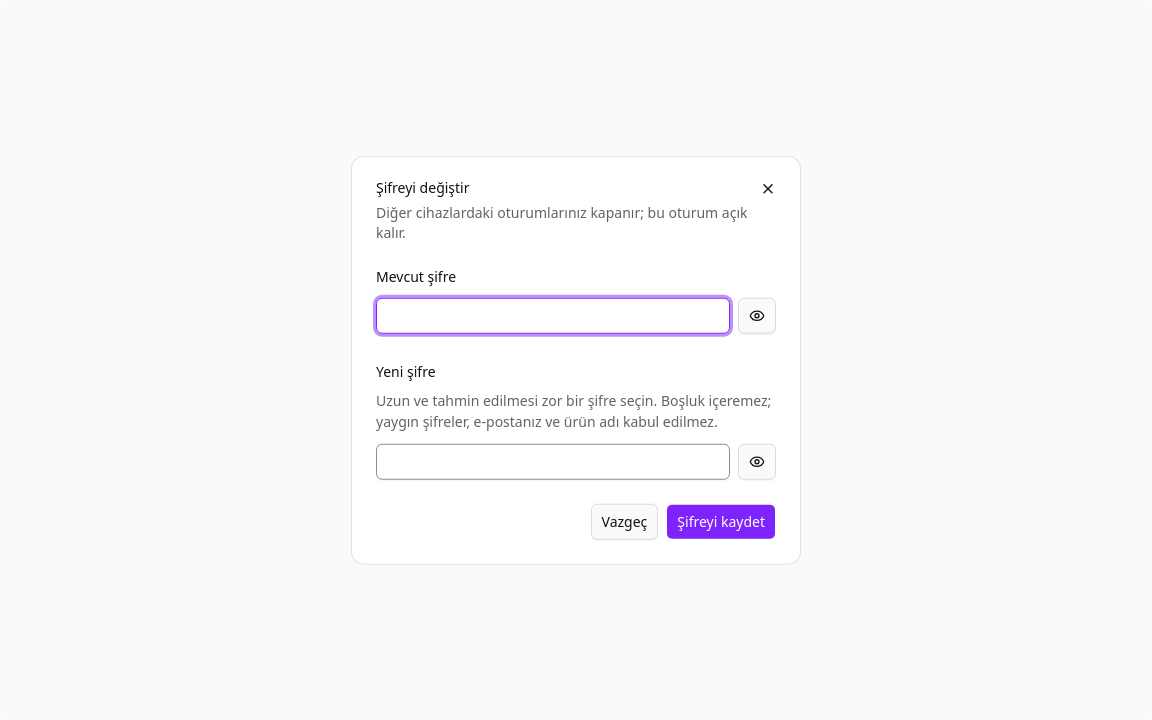
it: ChangePasswordDialog › shows a wrong current password under its field
Type "yanlış-şifre-yazıldı" into the password field labelled "Mevcut şifre".
click(553, 316); type("yanlış-şifre-yazıldı")  # box [376, 298, 730, 334]
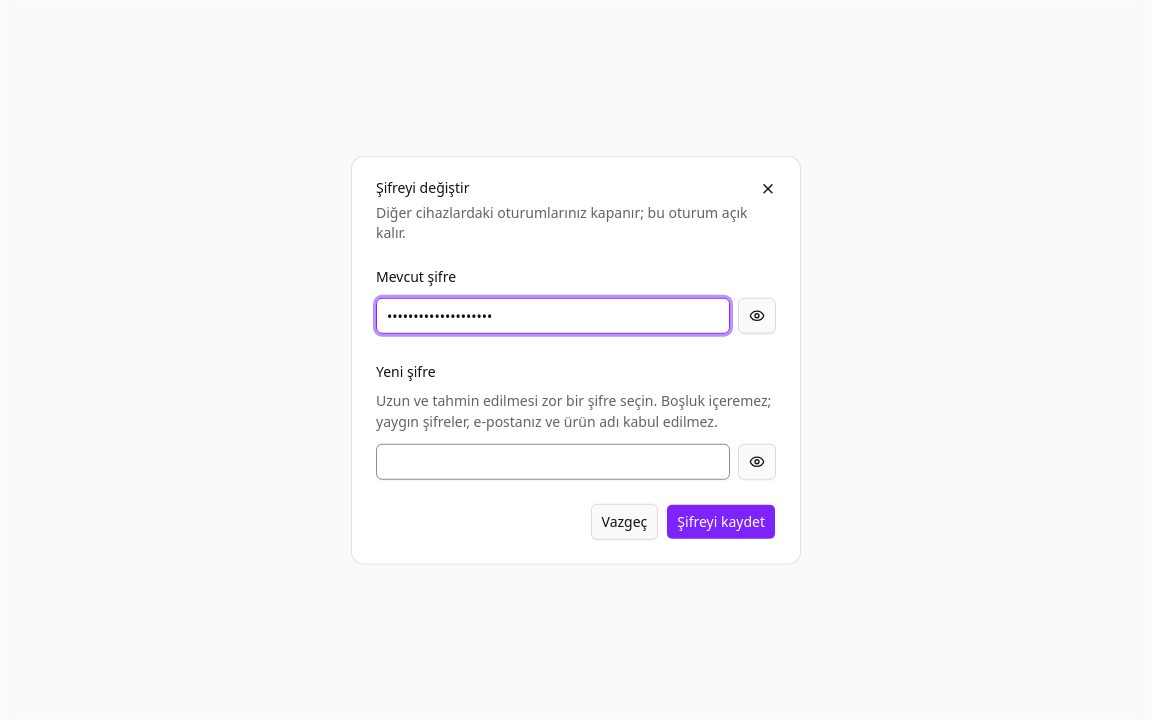
Type "mavi-kalem-uzun-yol" into the password field labelled "Yeni şifre".
click(553, 461); type("mavi-kalem-uzun-yol")  # box [376, 443, 730, 479]
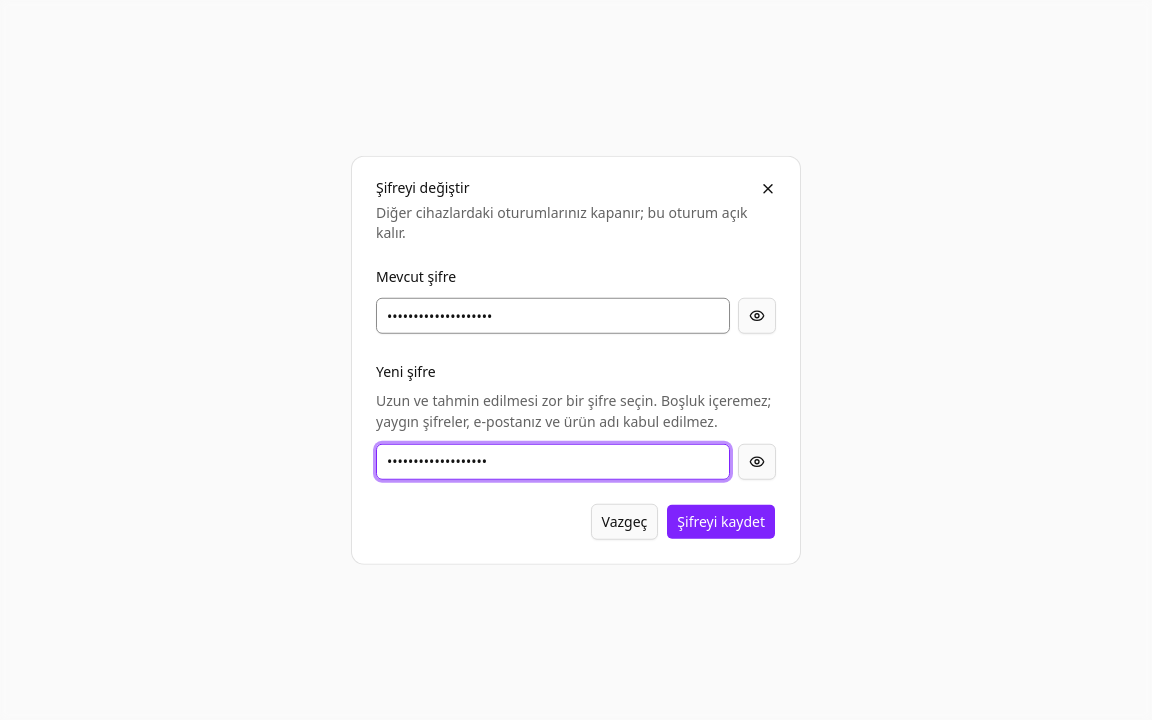
Click the button "Şifreyi kaydet".
click(721, 521)  # box [666, 503, 776, 539]
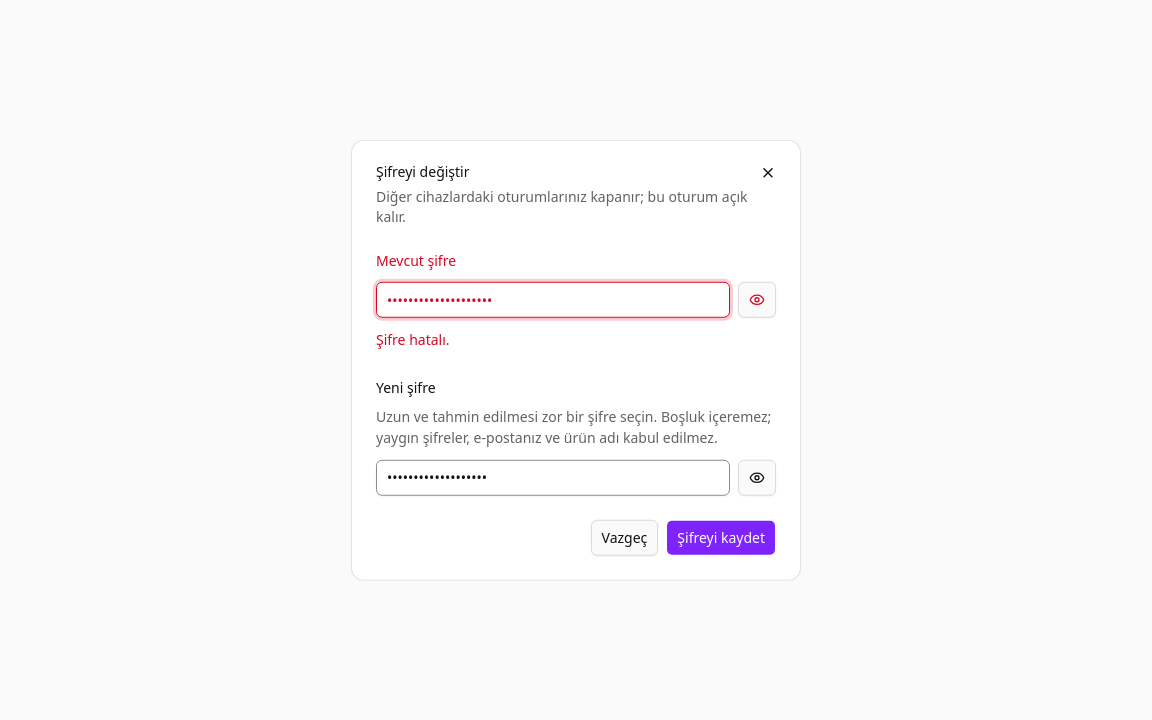
Check: the text "Şifre hatalı." is shown, box [376, 330, 450, 349]
